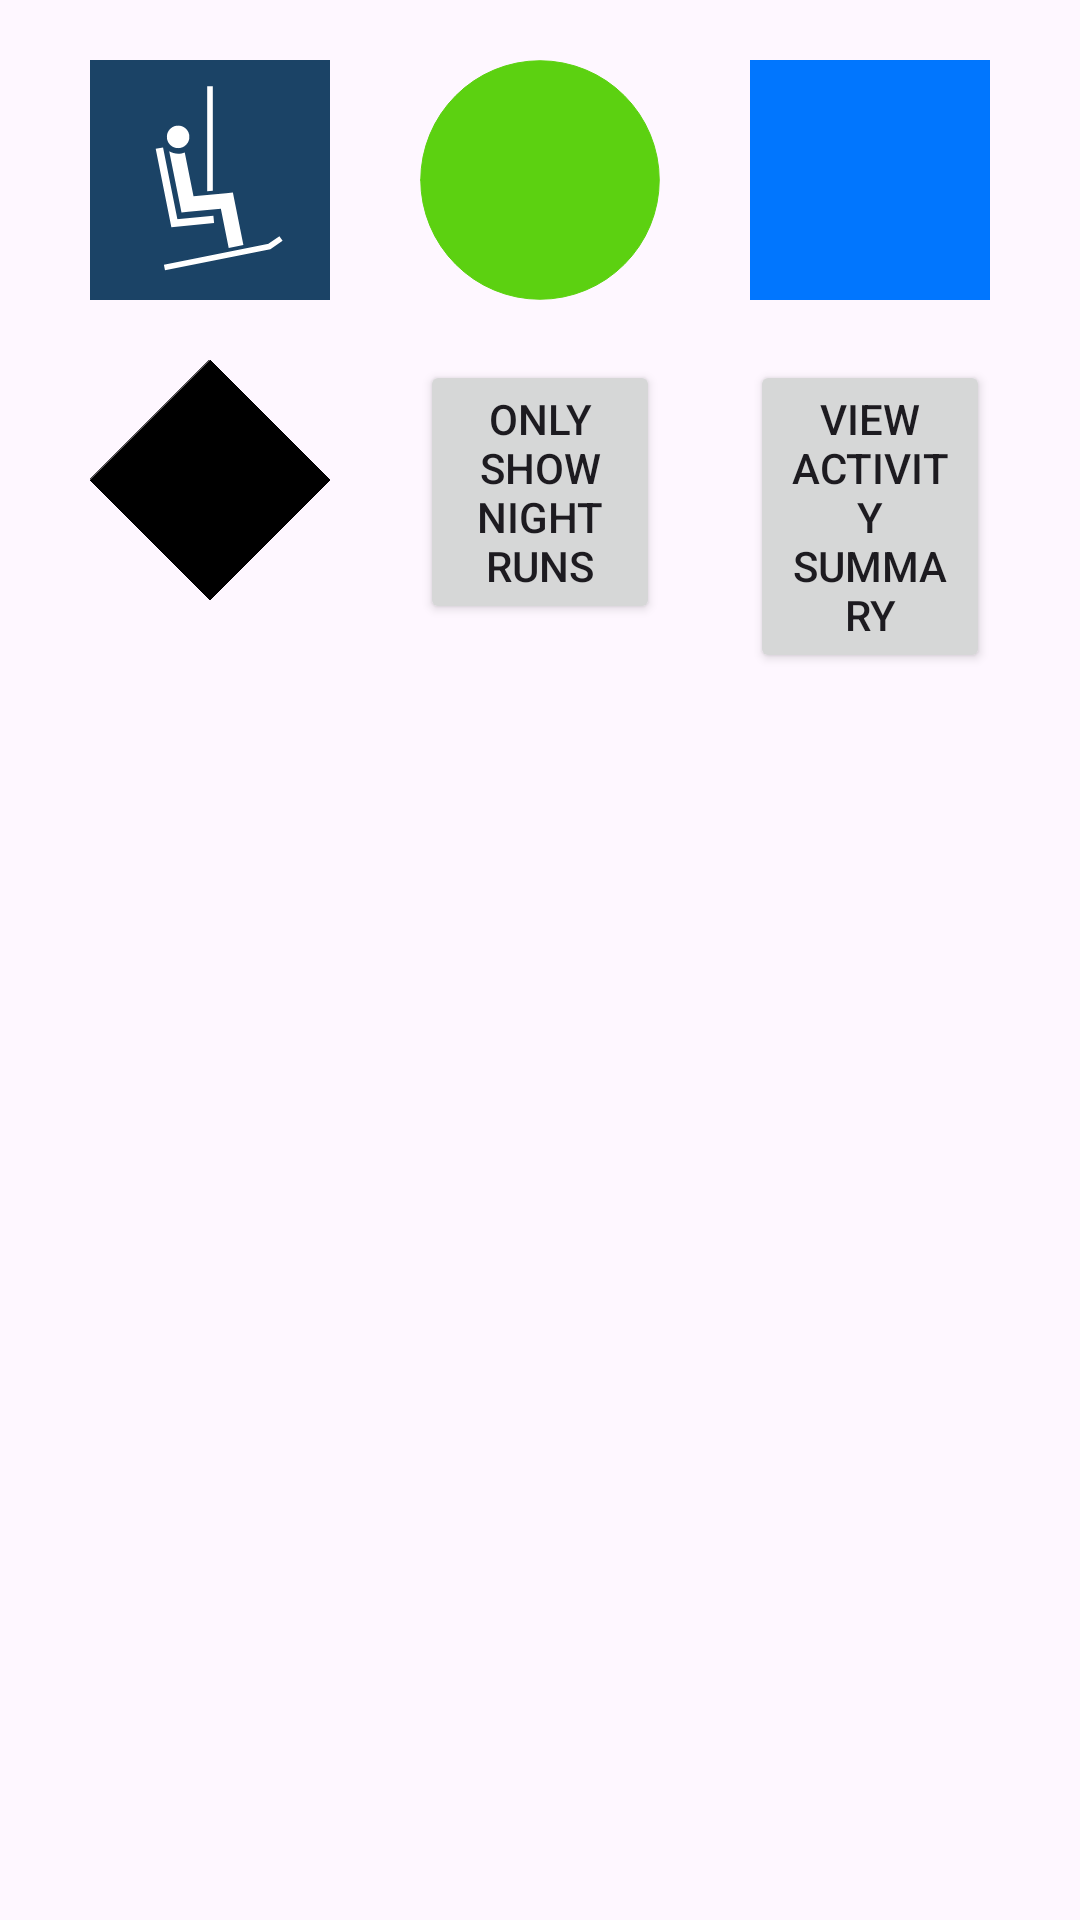

Where icons sit on this 1080w x 1920h app screen, as (x1, y1, x2, y2):
chairlift: (90, 60, 330, 300)
difficult: (90, 360, 330, 600)
easy: (420, 60, 660, 300)
